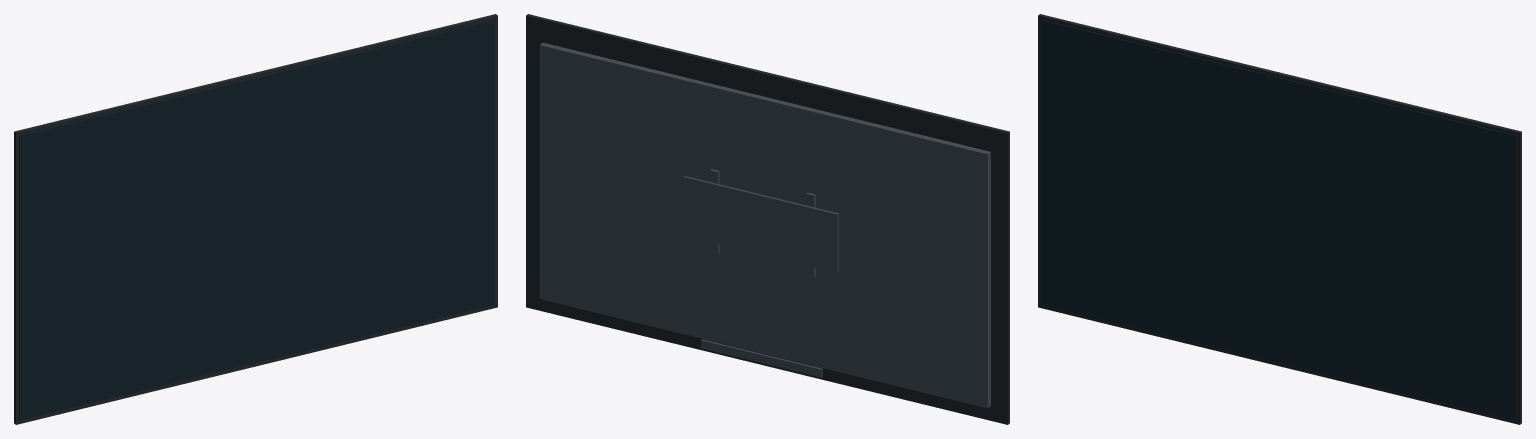
Rendered from television-3.glb.
The picture shows the model from 3 angles, left to right: view 1: azimuth 30°, elevation 25°; view 2: azimuth 150°, elevation 25°; view 3: azimuth 330°, elevation 25°; orthographic projection.
Parts seen in each view (by area): view 1: television:3:editor; view 2: television:3:editor; view 3: television:3:editor.
Boxes of the visible parts, x1,y1,x2,y2 form: television:3:editor: (14, 14, 497, 424); television:3:editor: (526, 14, 1009, 424); television:3:editor: (1038, 14, 1521, 424).
Bounding box in the file's own units: 1.9 × 1.1 × 0.0624.
